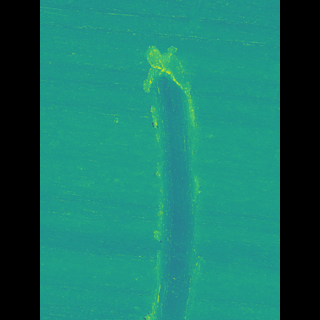Loch: (146, 42, 194, 320)
